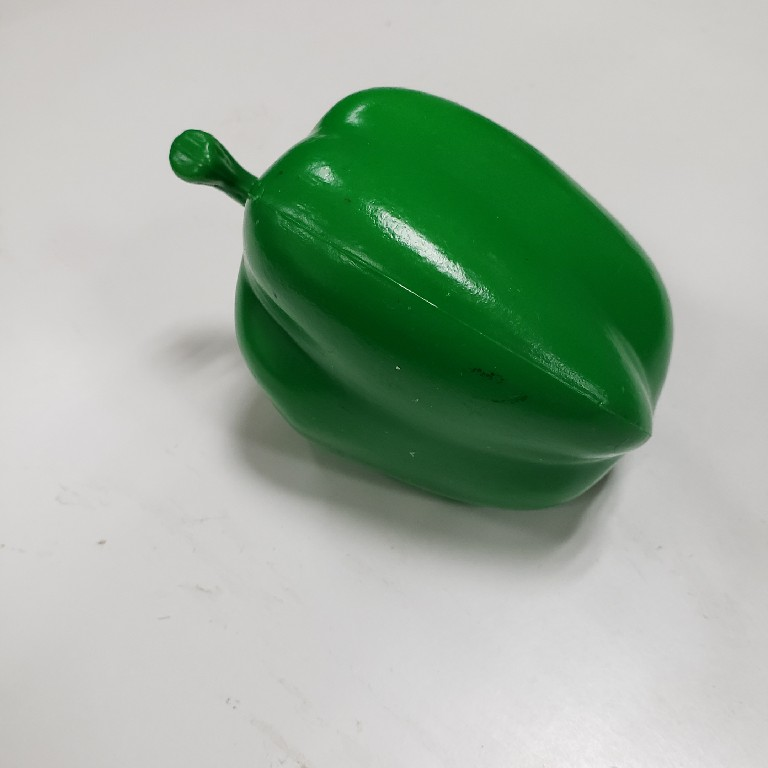fruit_pepper: (165, 84, 680, 516)
